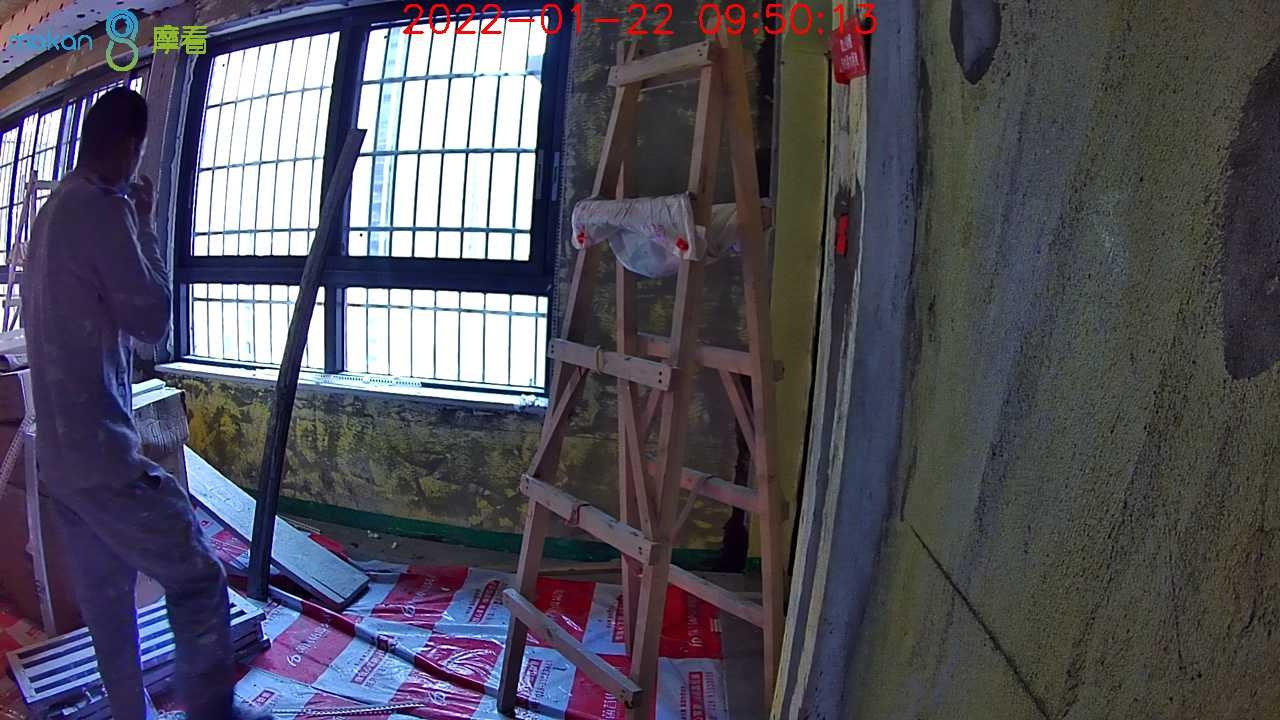people: (20, 87, 273, 720)
window: (176, 6, 572, 392)
